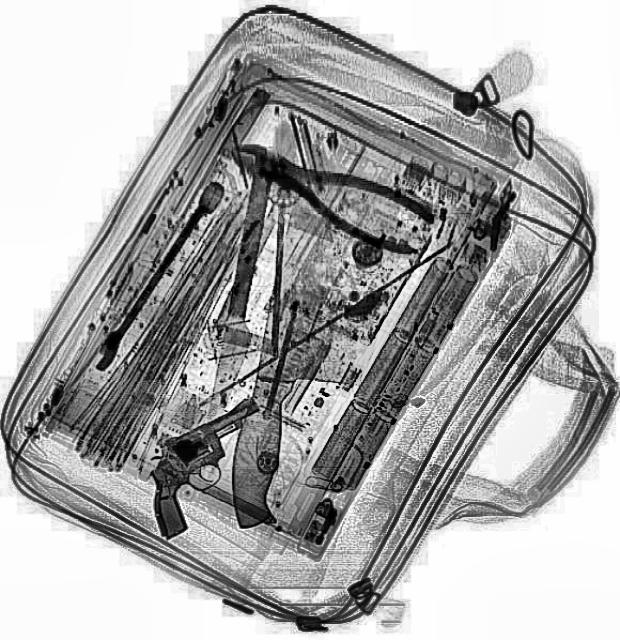Gun: (119, 393, 298, 542)
Knife: (219, 174, 405, 544), (194, 152, 284, 474)
Pliers: (216, 120, 438, 262)
